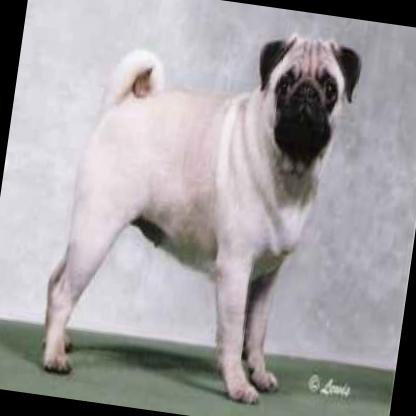pug: (24, 1, 366, 416)
